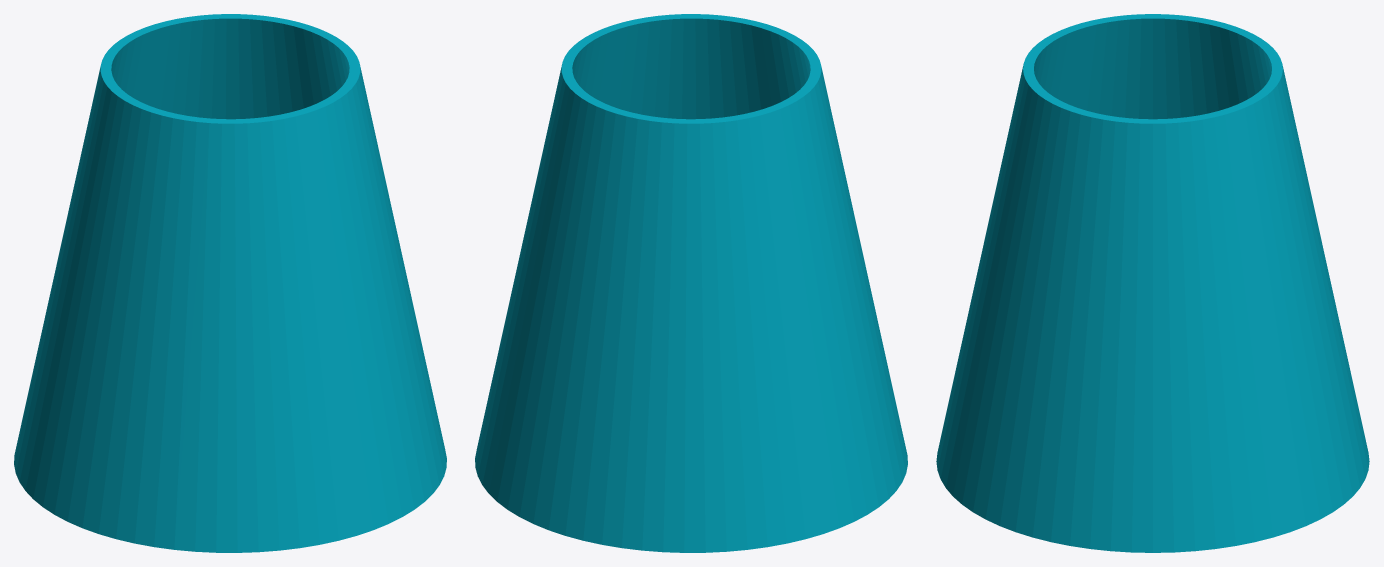
File: cone-small.glb
The picture shows the model from 3 angles, left to right: view 1: azimuth 30°, elevation 25°; view 2: azimuth 150°, elevation 25°; view 3: azimuth 270°, elevation 25°; orthographic projection.
Visible parts, largest first — view 1: Mesh_Mesh_head_geo.001_lambert2SG.001; view 2: Mesh_Mesh_head_geo.001_lambert2SG.001; view 3: Mesh_Mesh_head_geo.001_lambert2SG.001.
Part boxes in pixels (x1,y1,x2,y2): Mesh_Mesh_head_geo.001_lambert2SG.001: (14, 14, 446, 552); Mesh_Mesh_head_geo.001_lambert2SG.001: (475, 14, 907, 552); Mesh_Mesh_head_geo.001_lambert2SG.001: (936, 14, 1369, 552).
Bounding box in the file's own units: 40 × 40 × 40.
